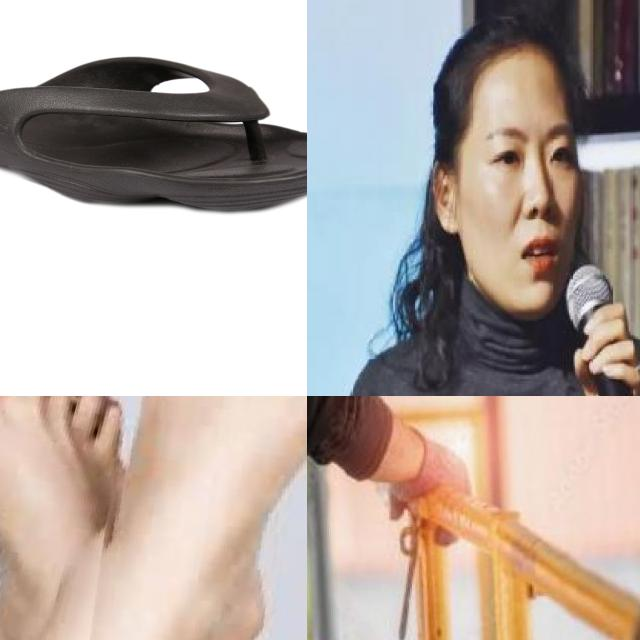Barefoots: (71, 396, 307, 640), (0, 396, 157, 640)
No_Ear-Protection: (422, 156, 467, 234)
No_Glasses: (474, 120, 582, 178)
Sandals: (0, 55, 307, 212)
face_nomask: (451, 92, 574, 299)
hand_noglove: (567, 302, 640, 396)
head_nohelmet: (443, 22, 581, 94)
person: (307, 18, 640, 396)
